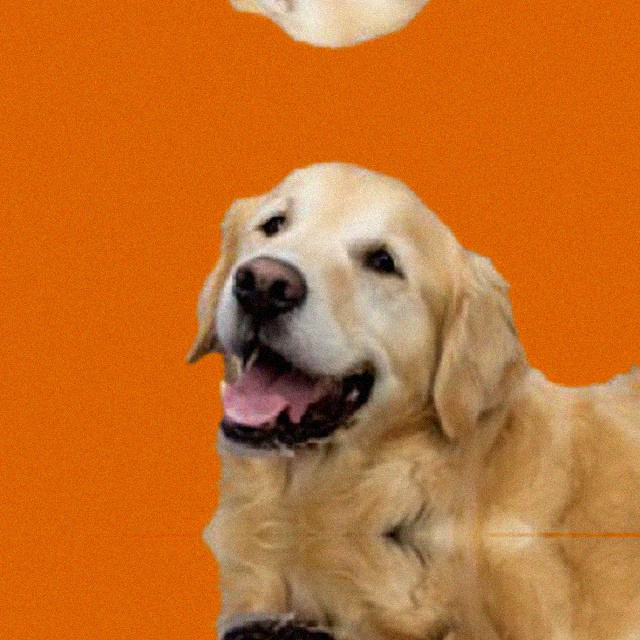dog: (149, 142, 528, 482), (150, 0, 529, 68), (150, 587, 529, 640)
